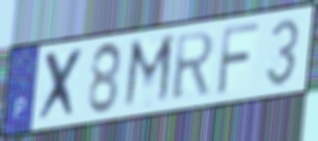3: (262, 15, 303, 89)
8: (85, 40, 124, 119)
F: (214, 20, 262, 99)
M: (120, 31, 177, 113)
R: (170, 29, 218, 104)
X: (34, 44, 86, 127)
